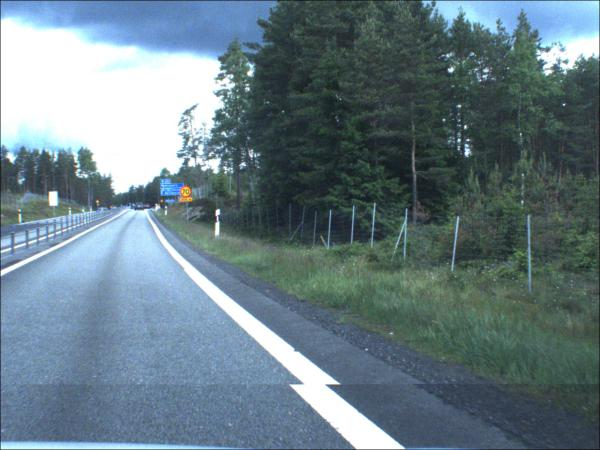70_SIGN: (182, 187, 193, 199), (162, 201, 166, 205), (97, 201, 101, 205)
